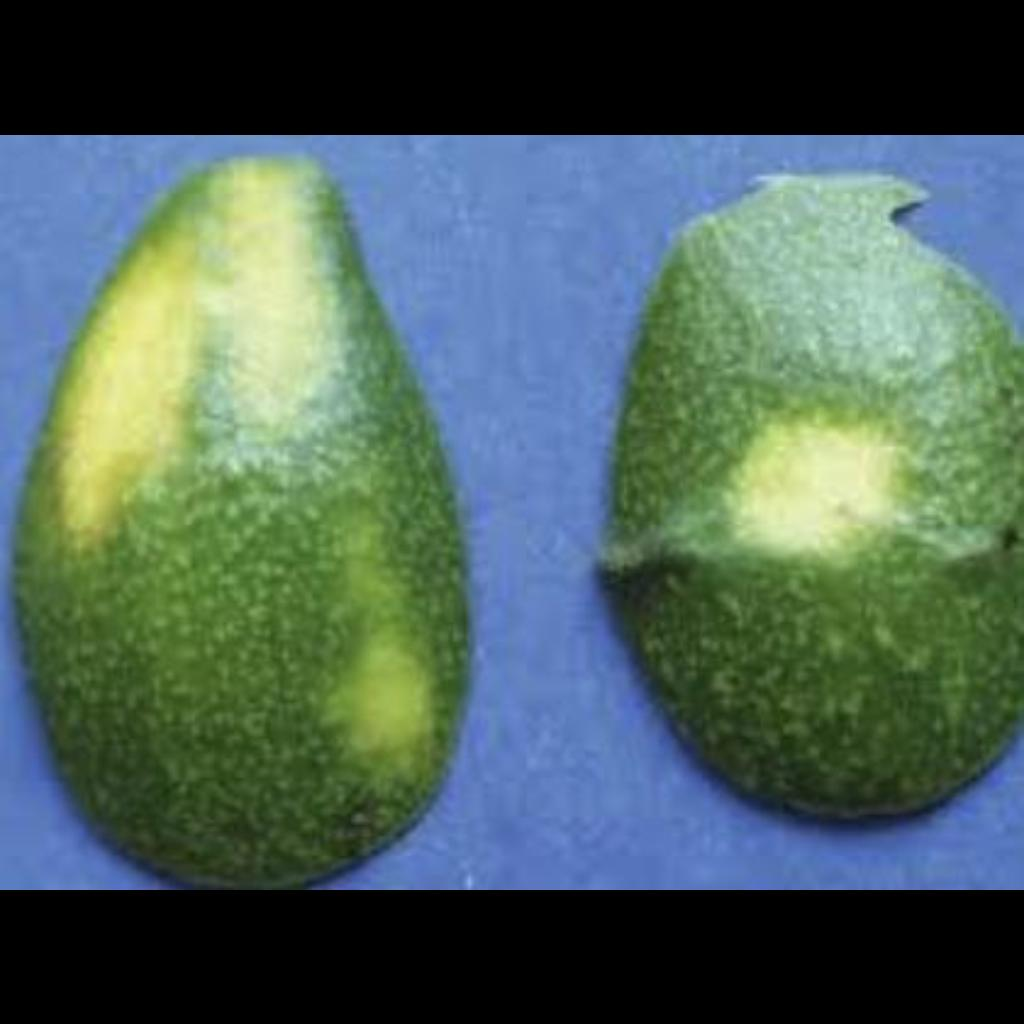sunblotch: (574, 187, 1014, 857), (43, 197, 465, 863)
